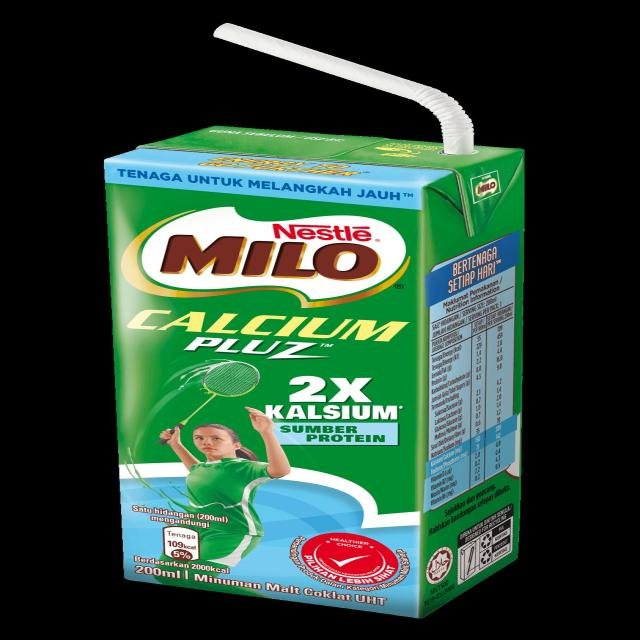drink carton: (111, 122, 520, 614)
